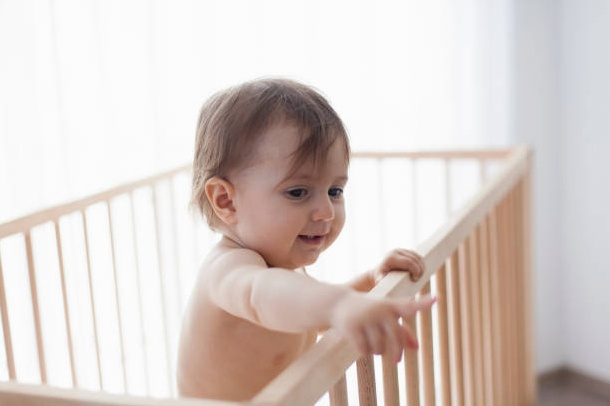baby: (177, 79, 433, 399)
crib: (0, 146, 535, 405)
